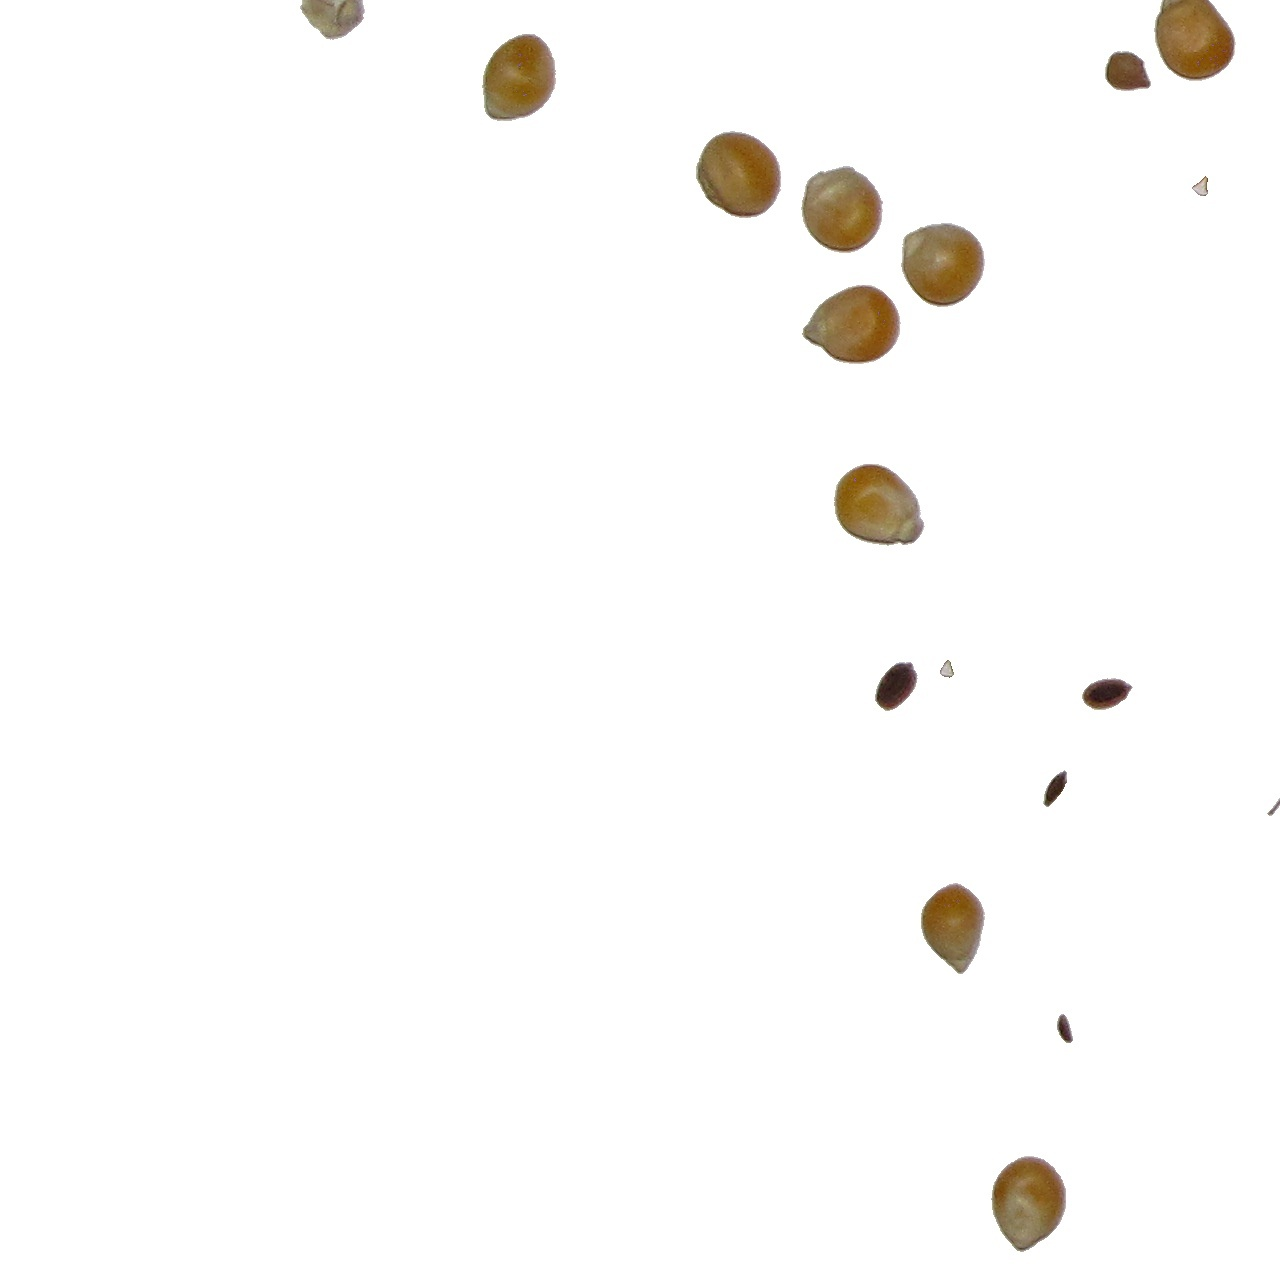buckwheat: (874, 661, 919, 712), (1081, 678, 1133, 712), (1046, 771, 1073, 821), (1266, 787, 1280, 817), (1191, 175, 1208, 197), (939, 659, 955, 679)
mais: (801, 284, 903, 365), (833, 463, 926, 547), (695, 130, 782, 219), (799, 165, 884, 254), (990, 1155, 1067, 1253), (900, 222, 986, 308), (1153, 1, 1239, 82), (481, 33, 557, 122), (920, 881, 986, 975)
other: (1104, 50, 1152, 91), (1056, 1013, 1074, 1044)
